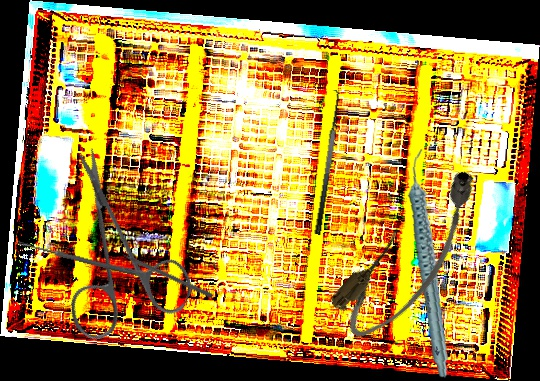Cannula: (323, 159, 504, 351)
Handpiece: (388, 147, 474, 380)
Iris Scissors: (6, 144, 230, 371)
Pusher: (109, 245, 214, 299)
Spatula Surgical: (302, 88, 347, 236)
Surgical Spoon: (16, 240, 147, 278)
